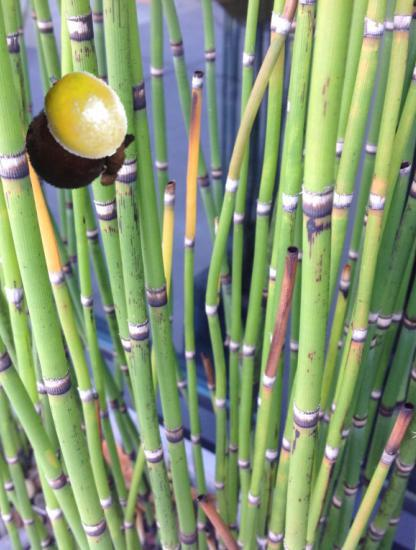Mangostan: (26, 92, 133, 199)
Maracuja: (35, 65, 134, 164)
